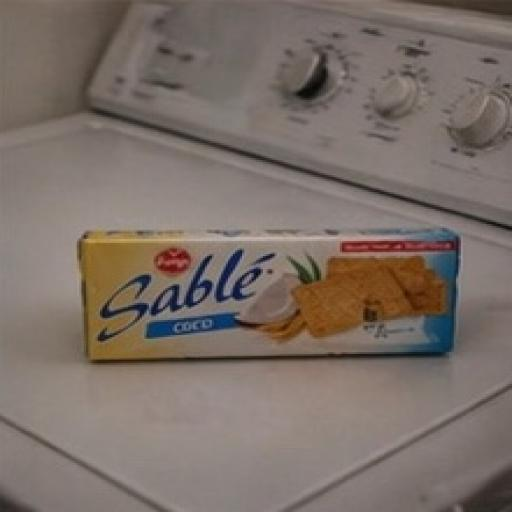sabl: (30, 148, 512, 413)
